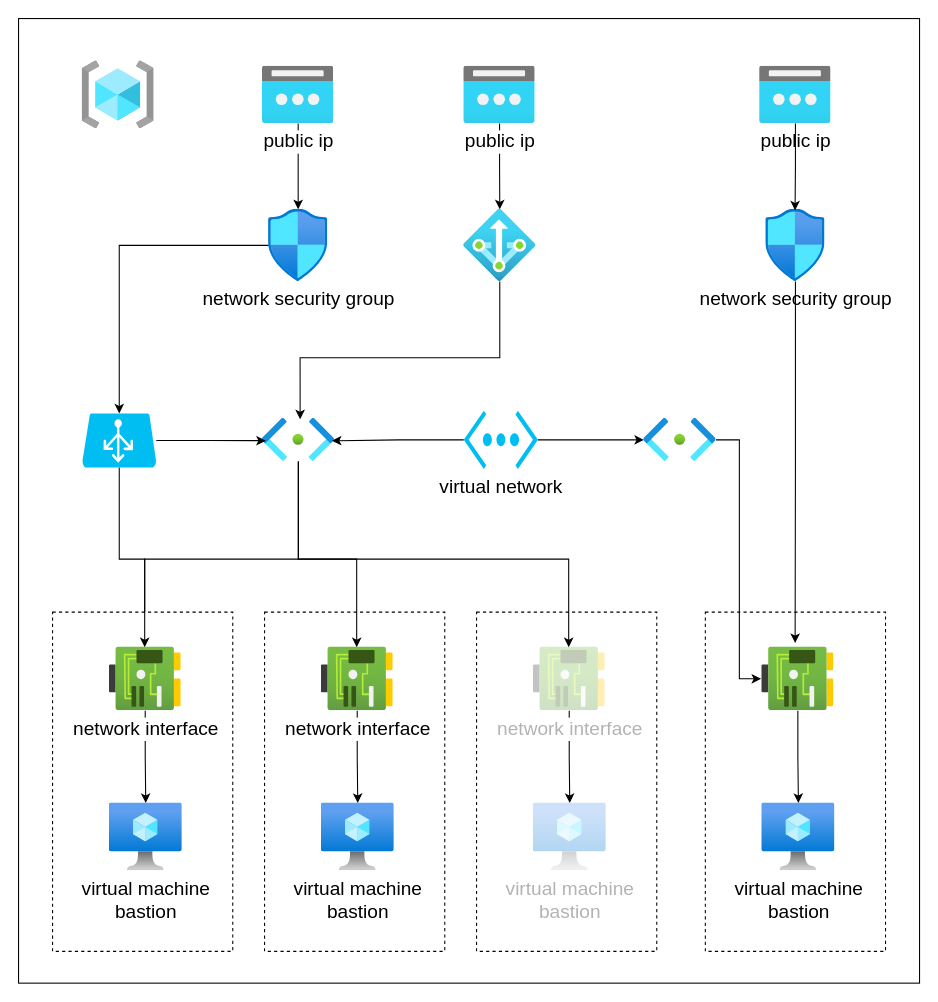
Some shapes in this 938 by 1002 pixel diagram are drawn without their labels. Each missing label, with the centre of its shape:
"load balanser" belongs at (x=119, y=440).
"NAT gateway" belongs at (x=499, y=245).
"network interface bastion" belongs at (x=797, y=678).
"resource group" belongs at (x=118, y=94).
"subnet" belongs at (x=298, y=439).
"subnet bastion" belongs at (x=679, y=439).
